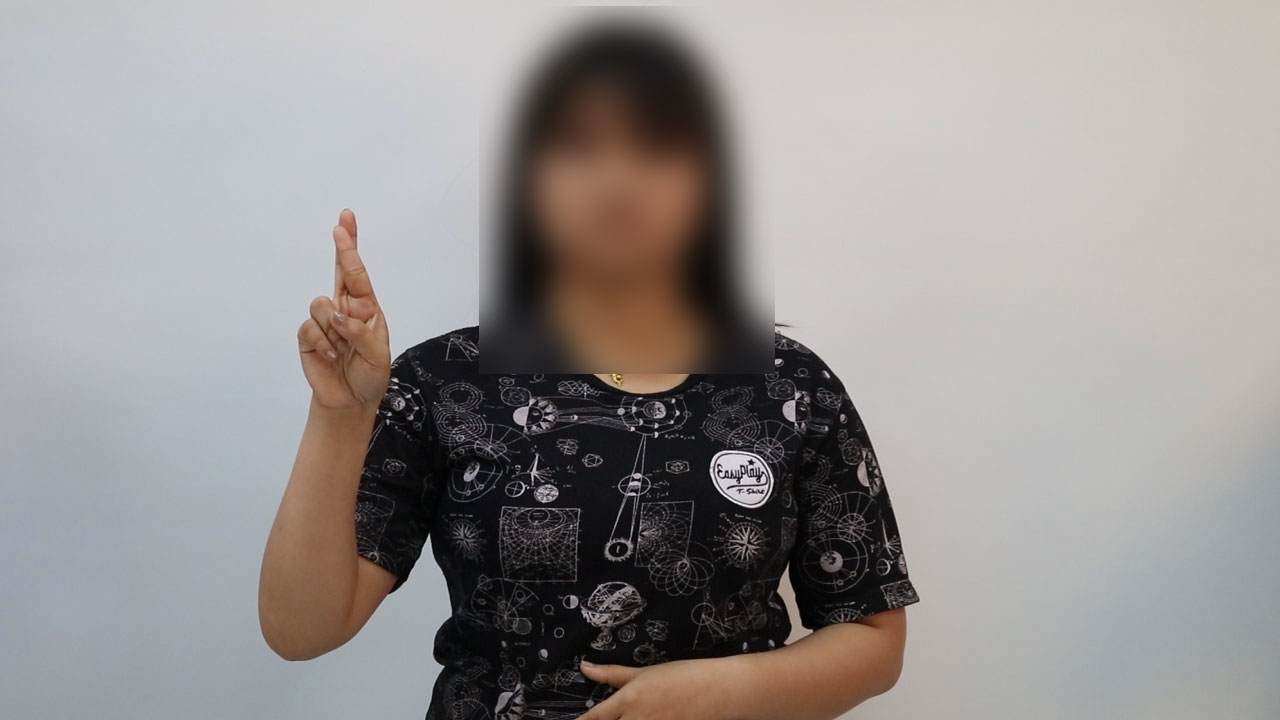rao: (281, 204, 402, 429)
